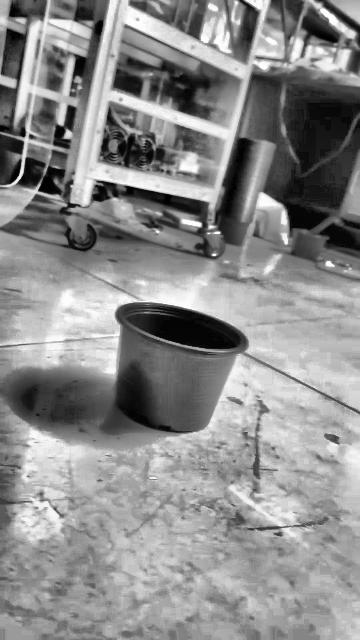pot: (115, 303, 246, 432)
